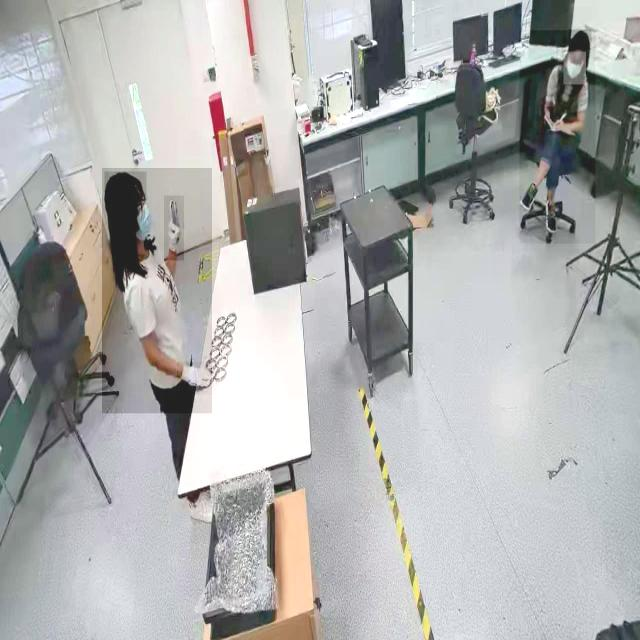face_mask: (132, 200, 154, 253), (563, 51, 586, 85)
hand_glove: (177, 362, 219, 396), (164, 196, 184, 260)
hand_noglove: (552, 116, 567, 132), (544, 107, 554, 129)
head_nohelmet: (105, 171, 146, 201), (568, 29, 592, 51)
person: (102, 168, 212, 414), (519, 31, 595, 244)
shoes: (520, 179, 540, 215), (543, 195, 559, 239)
